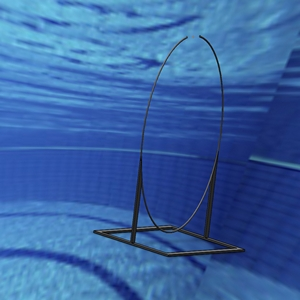circle: (92, 32, 245, 256)
